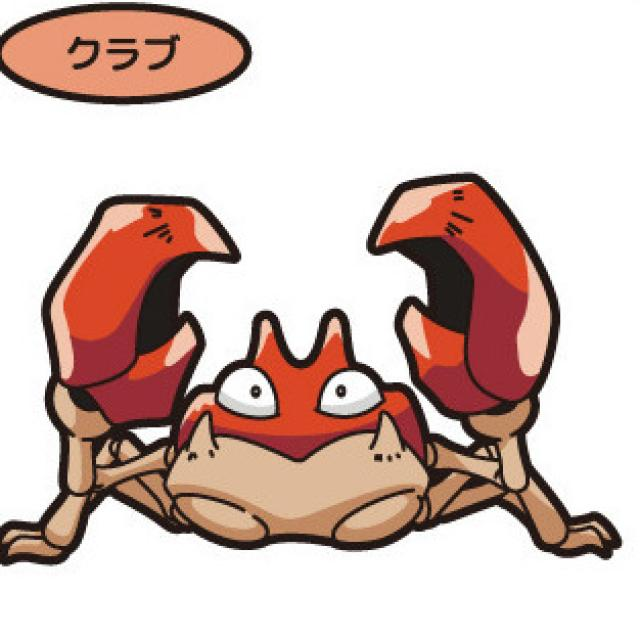Krabby: (33, 192, 567, 555)
